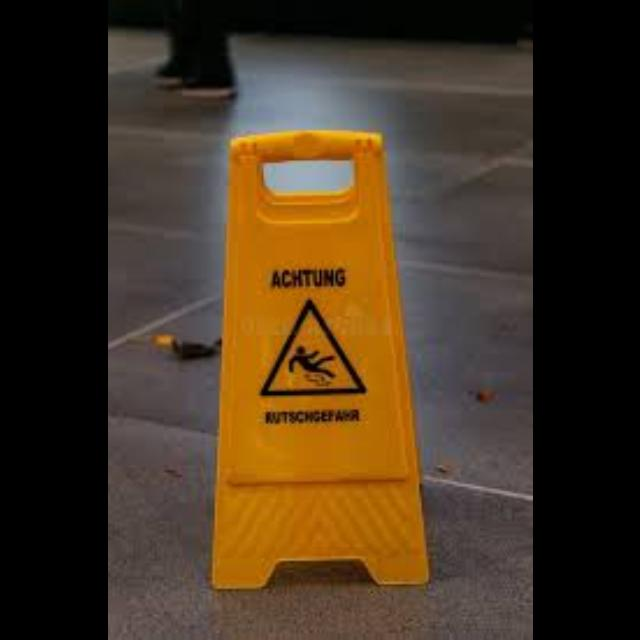tron truot: (212, 130, 424, 586)
